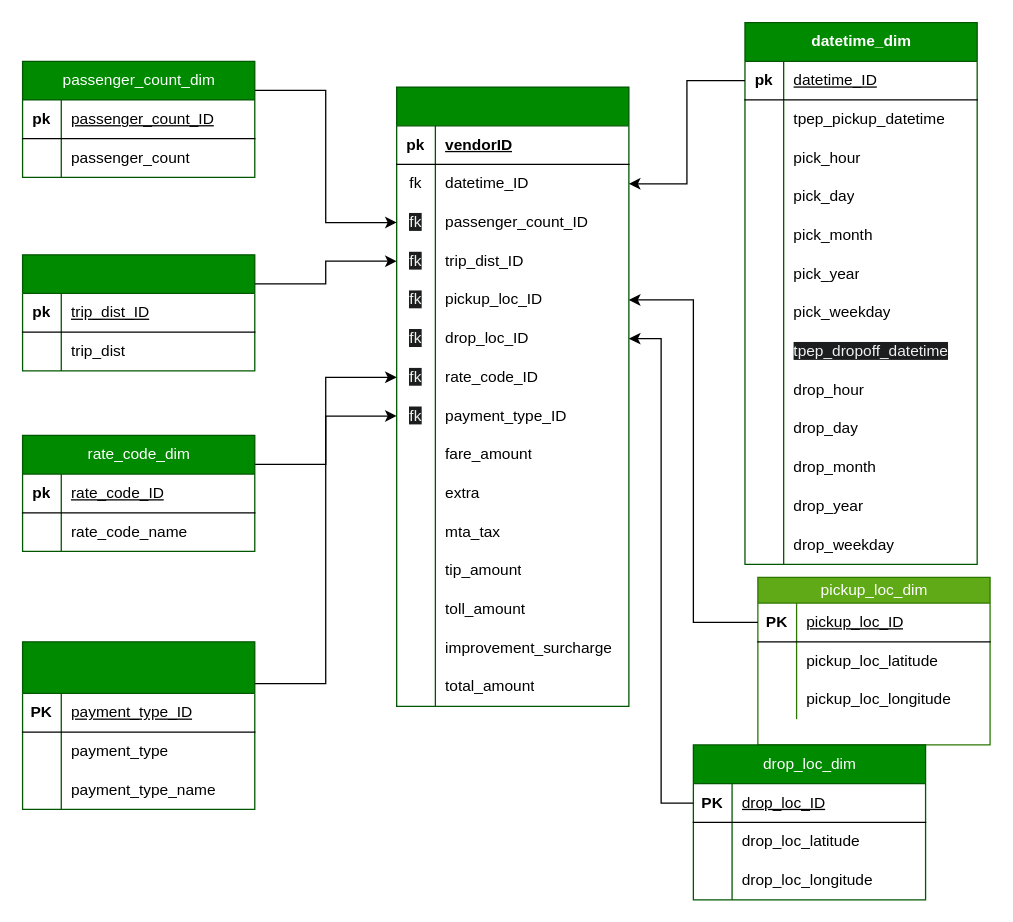
This 1013x922 diagram has some shape labels left out. The box of each missing label's shape, as (x1, y1, x2, y2) in pixels:
fact_table: (395, 86, 629, 706)
payment_type_dim: (21, 640, 255, 809)
trip_dist_dim: (21, 253, 255, 371)
